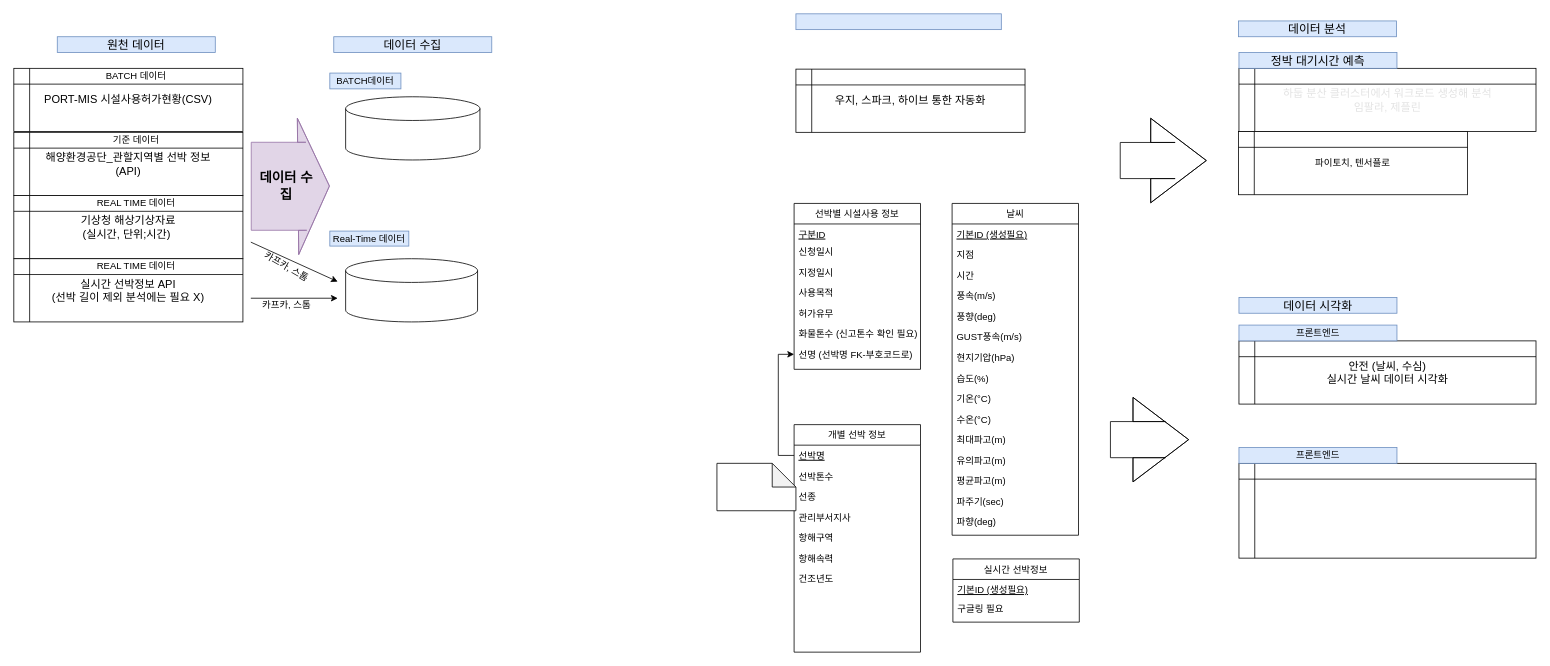
This 1550x666 diagram has some shape labels left out. Here are the shapes that lost their labels. From the top down, the centre of each, then its label:
At pixel 898 21: "데이터 처리.탐색 (DATA MART)".
At pixel 412 128: "스토리지 (플럼, 하둡)".
At pixel 411 290: "HBase".
At pixel 756 487: "선박 명 처리 후 데이터 취합 필요".
At pixel 1387 510: "실시간 선박 위치 개별 선박정보 (기준 데이터) 접근 (?) 실시간 선박정보 API 시각화".
